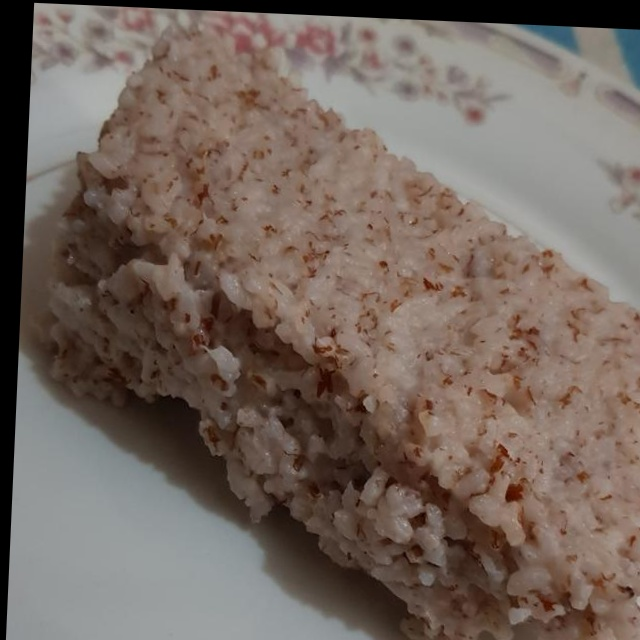Milk Rice: (27, 14, 640, 640)
